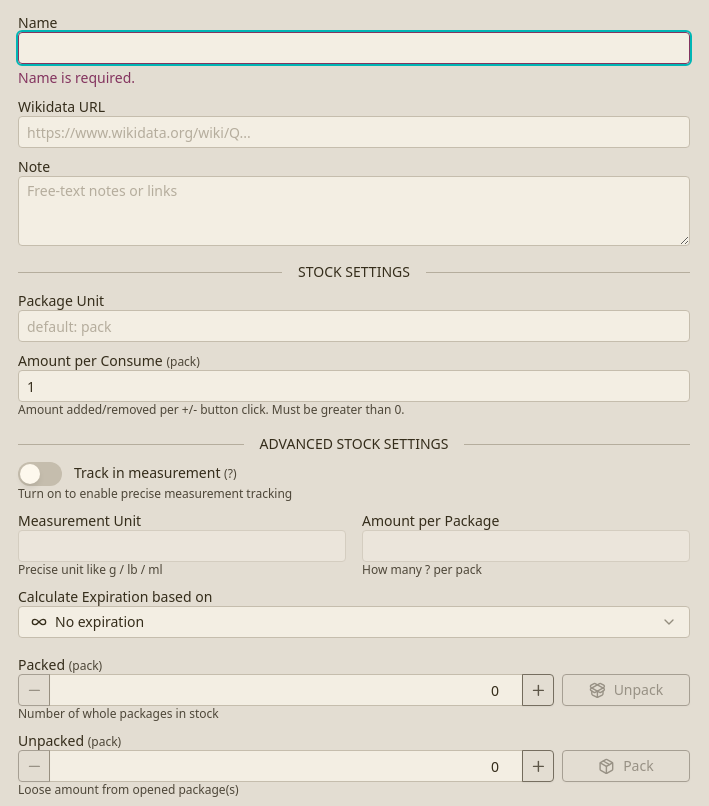
ItemForm — validation errors on page load › shows consume amount error when consume amount is 0
Replace the text in the number field labelled "Amount per Consume (pack)" with "0" at (354, 386), box [18, 370, 690, 402]
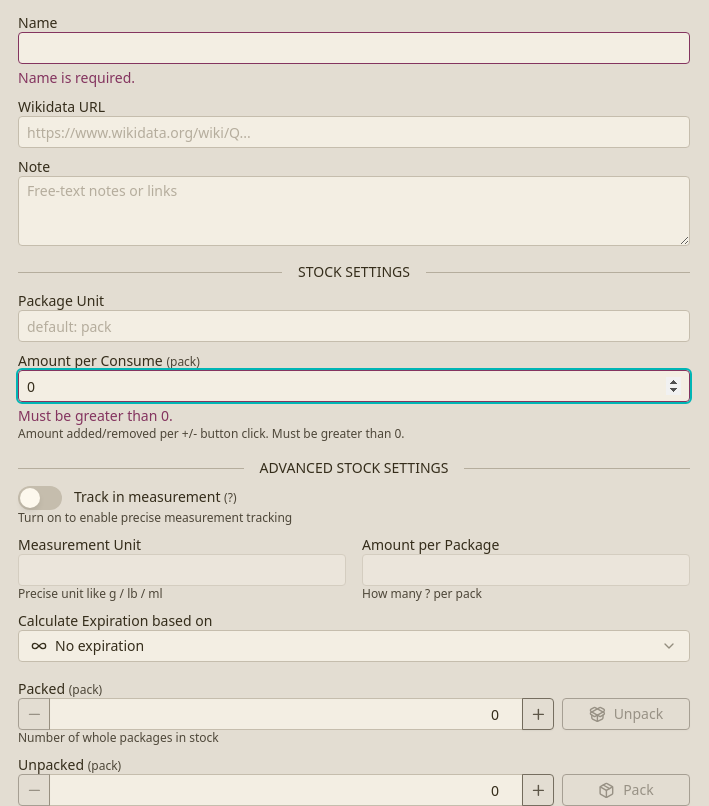
Expected: the text "Must be greater than 0." is shown, [18, 406, 173, 425]
